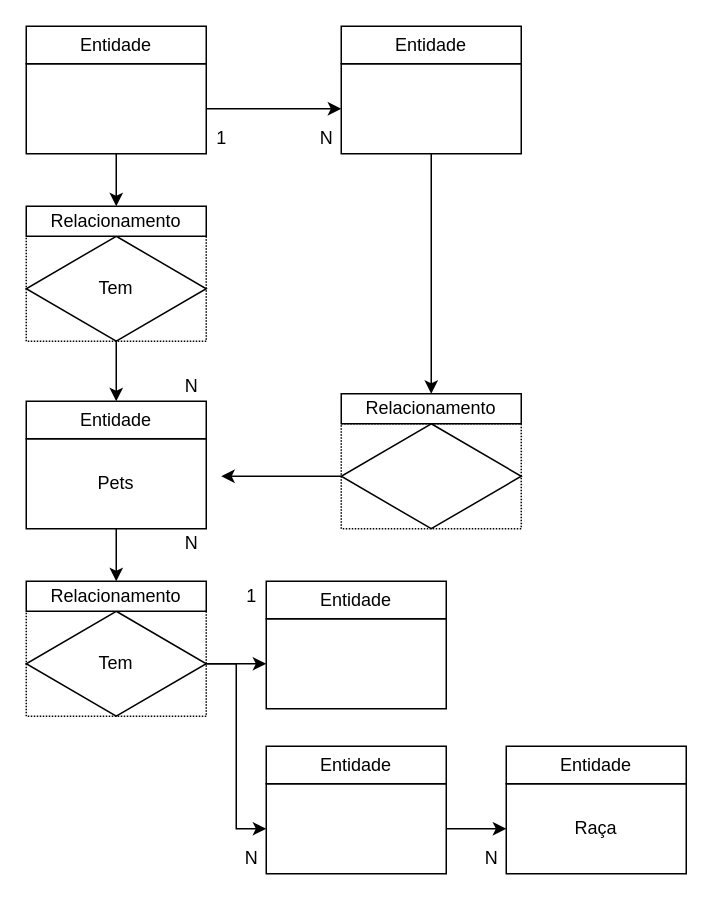
Some shapes in this 713 by 900 pixel diagram are drawn without their labels. The box of each missing label's shape, as (x1, y1, x2, y2) in pixels:
Cadastro: (340, 422, 521, 529)
Clinica: (25, 62, 206, 154)
Dono: (265, 617, 446, 709)
Tipo: (265, 782, 446, 874)
Veterinarios: (340, 62, 521, 154)
